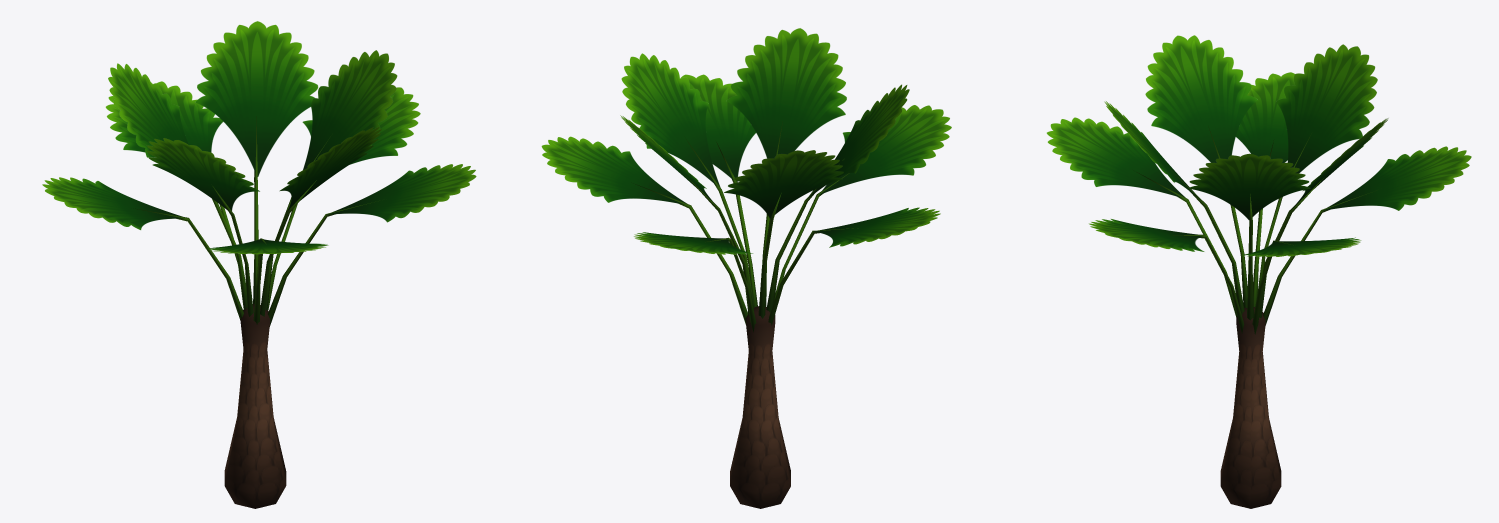
File: Tree11.glb
3 views of the same model, side by side, from view 1: azimuth 30°, elevation 25°; view 2: azimuth 150°, elevation 25°; view 3: azimuth 270°, elevation 25° (orthographic).
Parts seen in each view (by area): view 1: Tree_24; view 2: Tree_24; view 3: Tree_24.
Boxes of the visible parts, x1=… form: Tree_24: x1=42, y1=21, x2=476, y2=508; Tree_24: x1=541, y1=28, x2=951, y2=508; Tree_24: x1=1046, y1=35, x2=1471, y2=508.
Size of the model in its own units: 66.68 by 64.12 by 65.63.
1 material, 1 textured.
